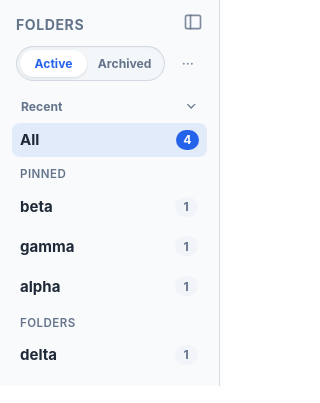
Test: FolderFilter folder lifecycle action › disables the action for the All pseudo-folder
Step 1. Click the button named "Folder actions" → (188, 64), box [173,48,203,79]
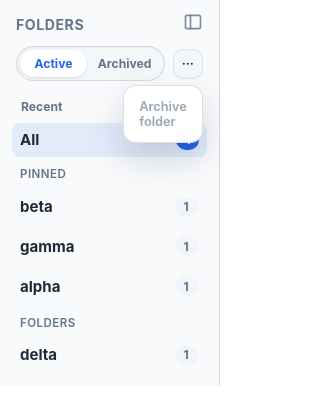
Result: the menu item "Archive folder" is disabled at [129,91,197,137]
